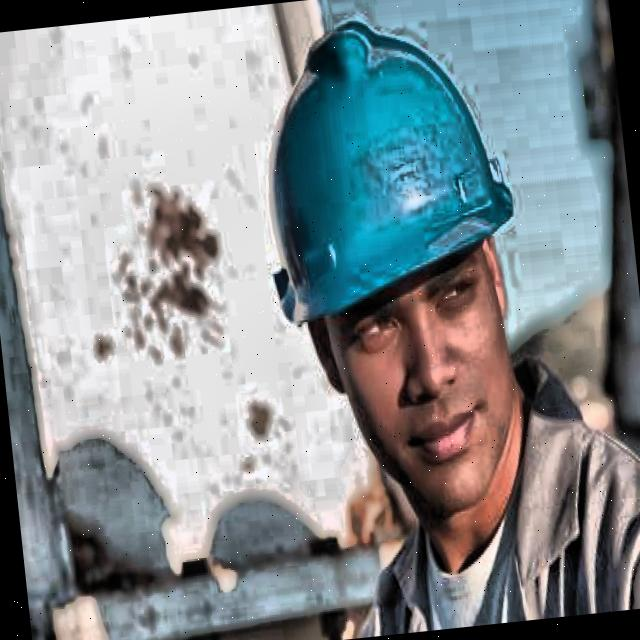helmet: (221, 0, 578, 568)
